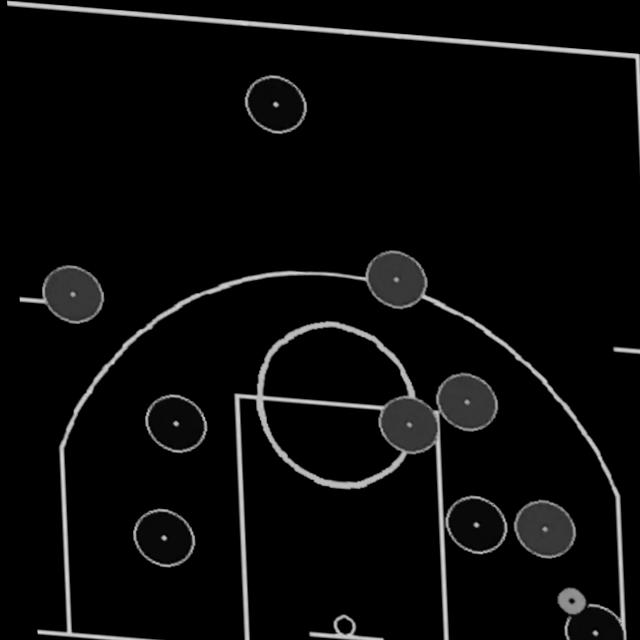Basketball: (546, 575, 582, 608)
Team_A: (240, 67, 306, 131), (136, 389, 203, 451), (436, 485, 501, 548), (123, 503, 188, 565), (554, 592, 618, 640)
Team_B: (35, 261, 101, 324), (360, 241, 426, 304), (504, 489, 570, 551), (428, 363, 494, 425), (371, 388, 434, 450)
